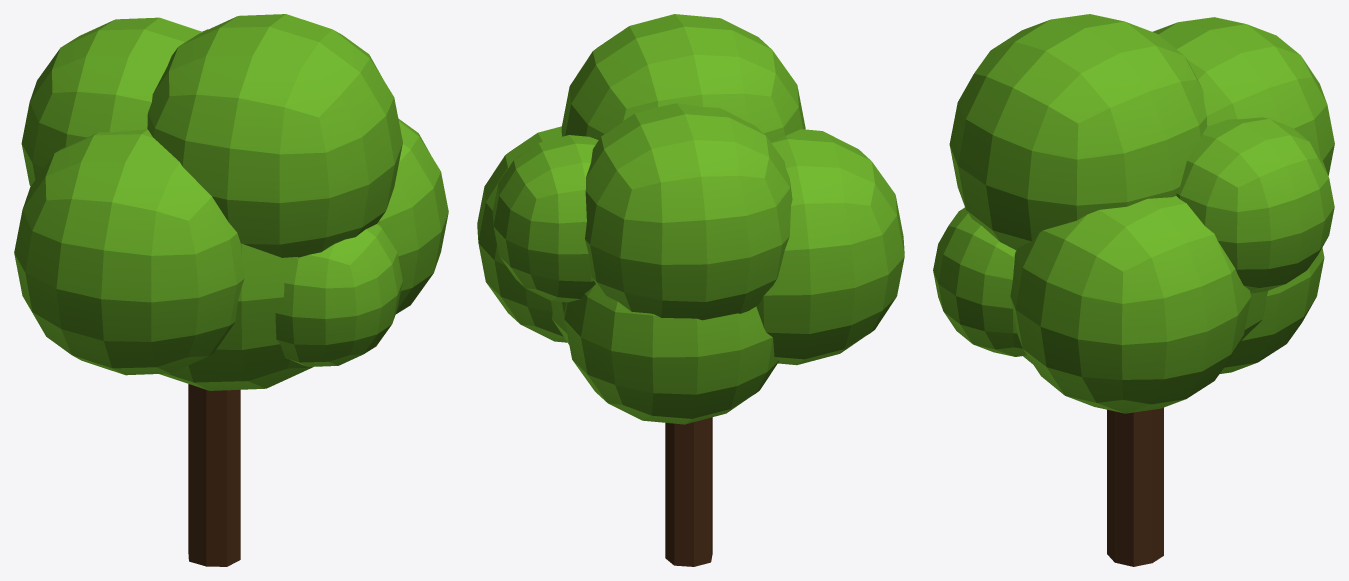
The model's file is single tree.fbx.
3 renders of one model, left to right at view 1: azimuth 30°, elevation 25°; view 2: azimuth 150°, elevation 25°; view 3: azimuth 270°, elevation 25°, orthographic. The views are drawn at different scales.
Visible parts, largest first — view 1: Cube.237; view 2: Cube.237; view 3: Cube.237.
Part boxes in pixels (x1,y1,x2,y2): Cube.237: [14, 14, 448, 566]; Cube.237: [477, 14, 904, 566]; Cube.237: [933, 14, 1334, 566].
Bounding box in the file's own units: 6.72 × 8.29 × 5.58.
1 material, 1 textured.
